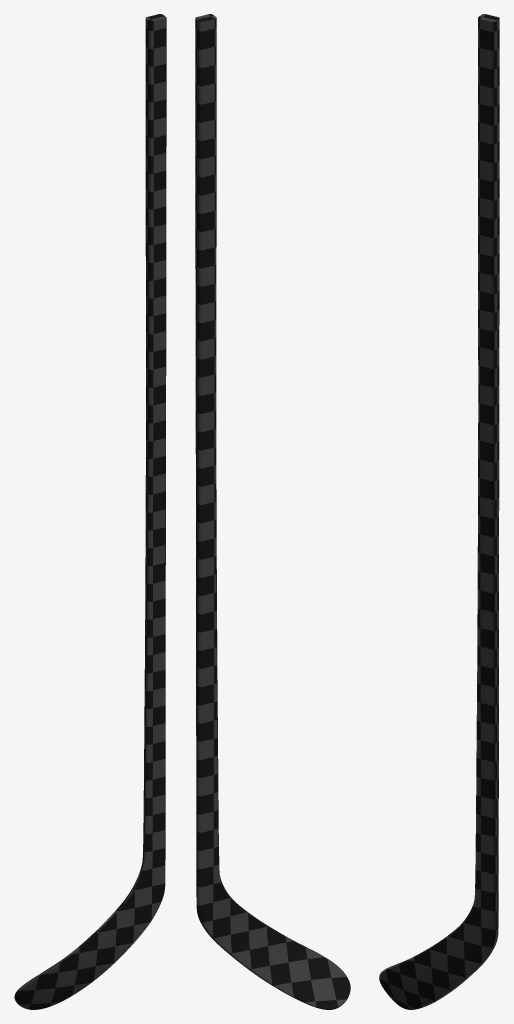
File: P19Y-SBT.glb
The picture shows the model from 3 angles, left to right: view 1: azimuth 30°, elevation 25°; view 2: azimuth 210°, elevation 25°; view 3: azimuth 330°, elevation 25°; orthographic projection. The views are drawn at different scales.
Parts seen in each view (by area): view 1: geometry_0; view 2: geometry_0; view 3: geometry_0.
Part boxes in pixels (x1,y1,x2,y2): geometry_0: (14,14,166,1009); geometry_0: (195,14,350,1009); geometry_0: (379,14,499,1009).
Size of the model in its own units: 230 by 1650 by 76.98.
1 material, 1 textured.
